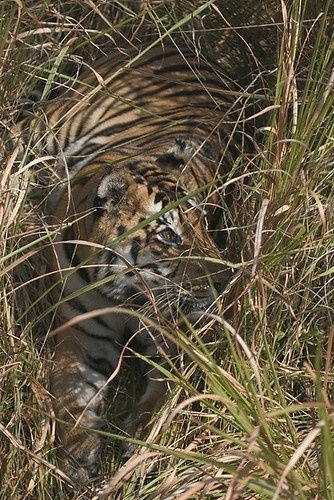tigre: (21, 38, 255, 492)
